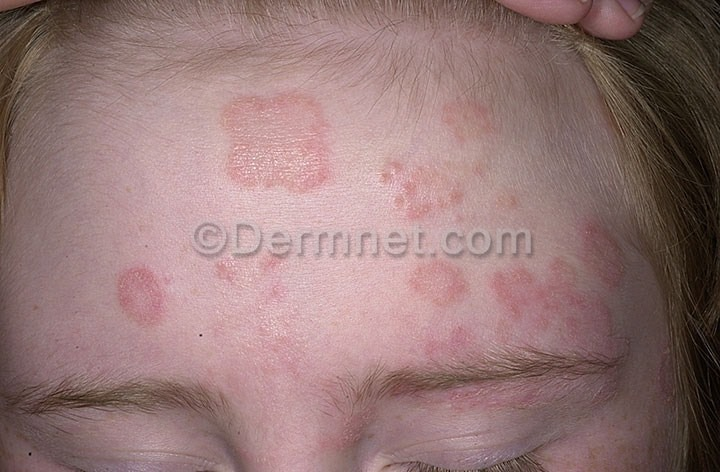Ringworm: (208, 77, 334, 197), (104, 254, 175, 332), (405, 254, 477, 309), (439, 80, 495, 150)
